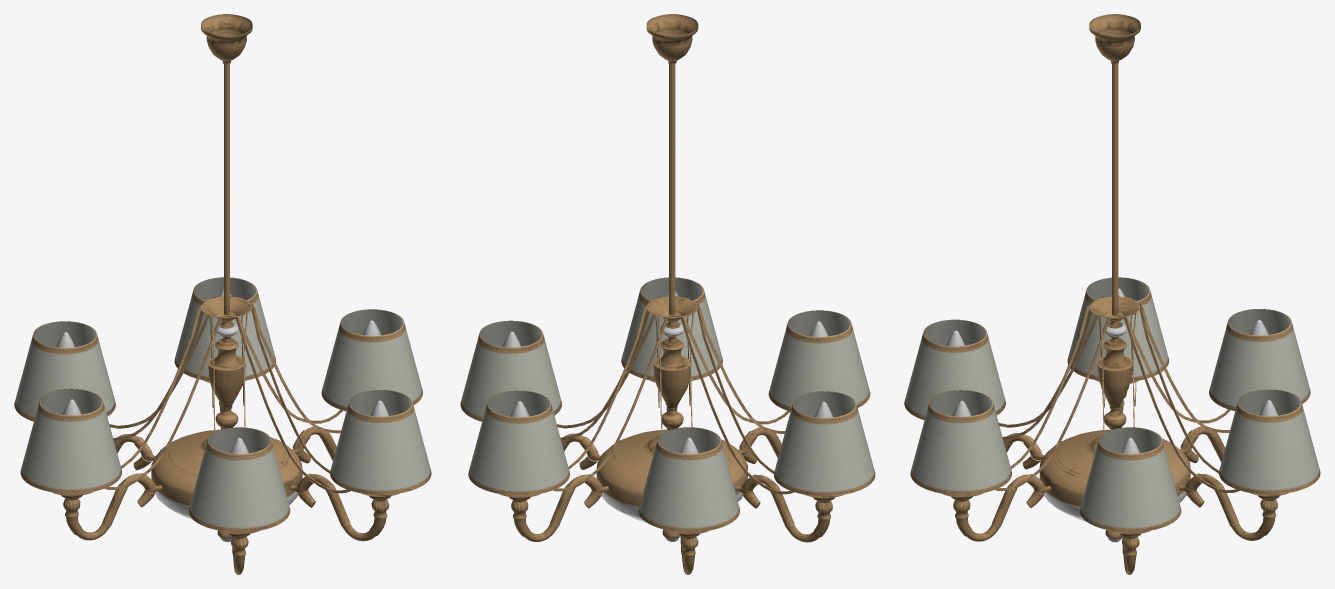
The model's file is Chandelier_02_1k.obj.
3 renders of one model, left to right at view 1: azimuth 30°, elevation 25°; view 2: azimuth 150°, elevation 25°; view 3: azimuth 270°, elevation 25°, orthographic.
Parts seen in each view (by area): view 1: Chandelier_02; view 2: Chandelier_02; view 3: Chandelier_02.
Boxes of the visible parts, box(x1,y1,x2,y2) form: Chandelier_02: box(14, 14, 431, 574); Chandelier_02: box(460, 14, 875, 574); Chandelier_02: box(904, 14, 1320, 574).
Bounding box in the file's own units: 0.679 × 0.8481 × 0.6191.
